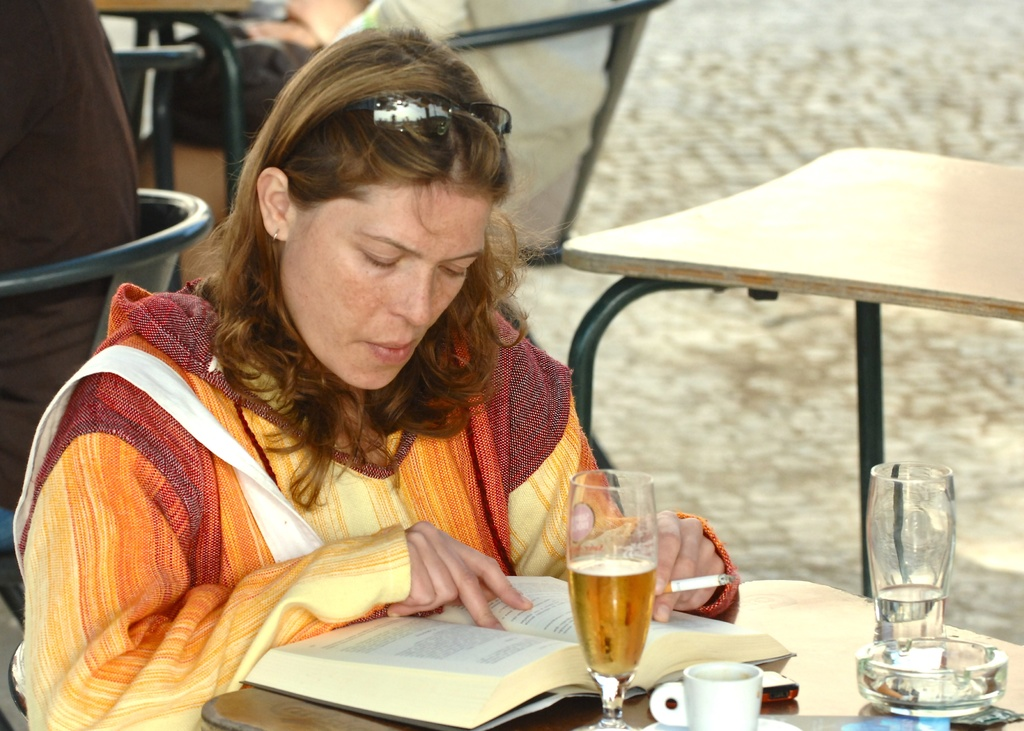Beer: (566, 551, 659, 675)
